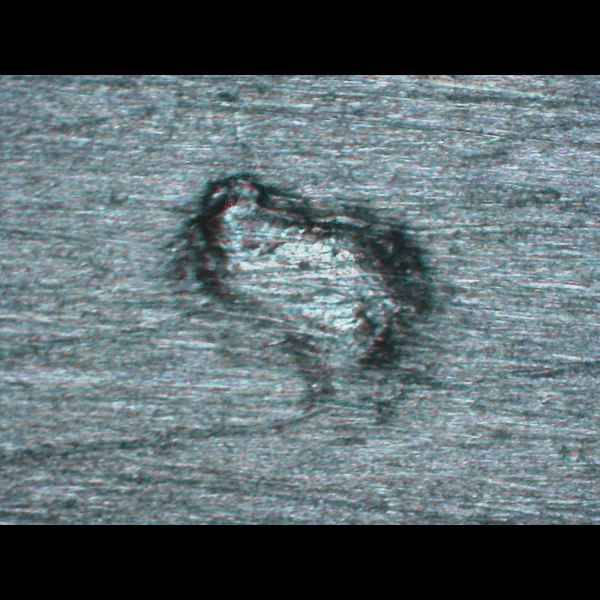d: (158, 155, 446, 425)
